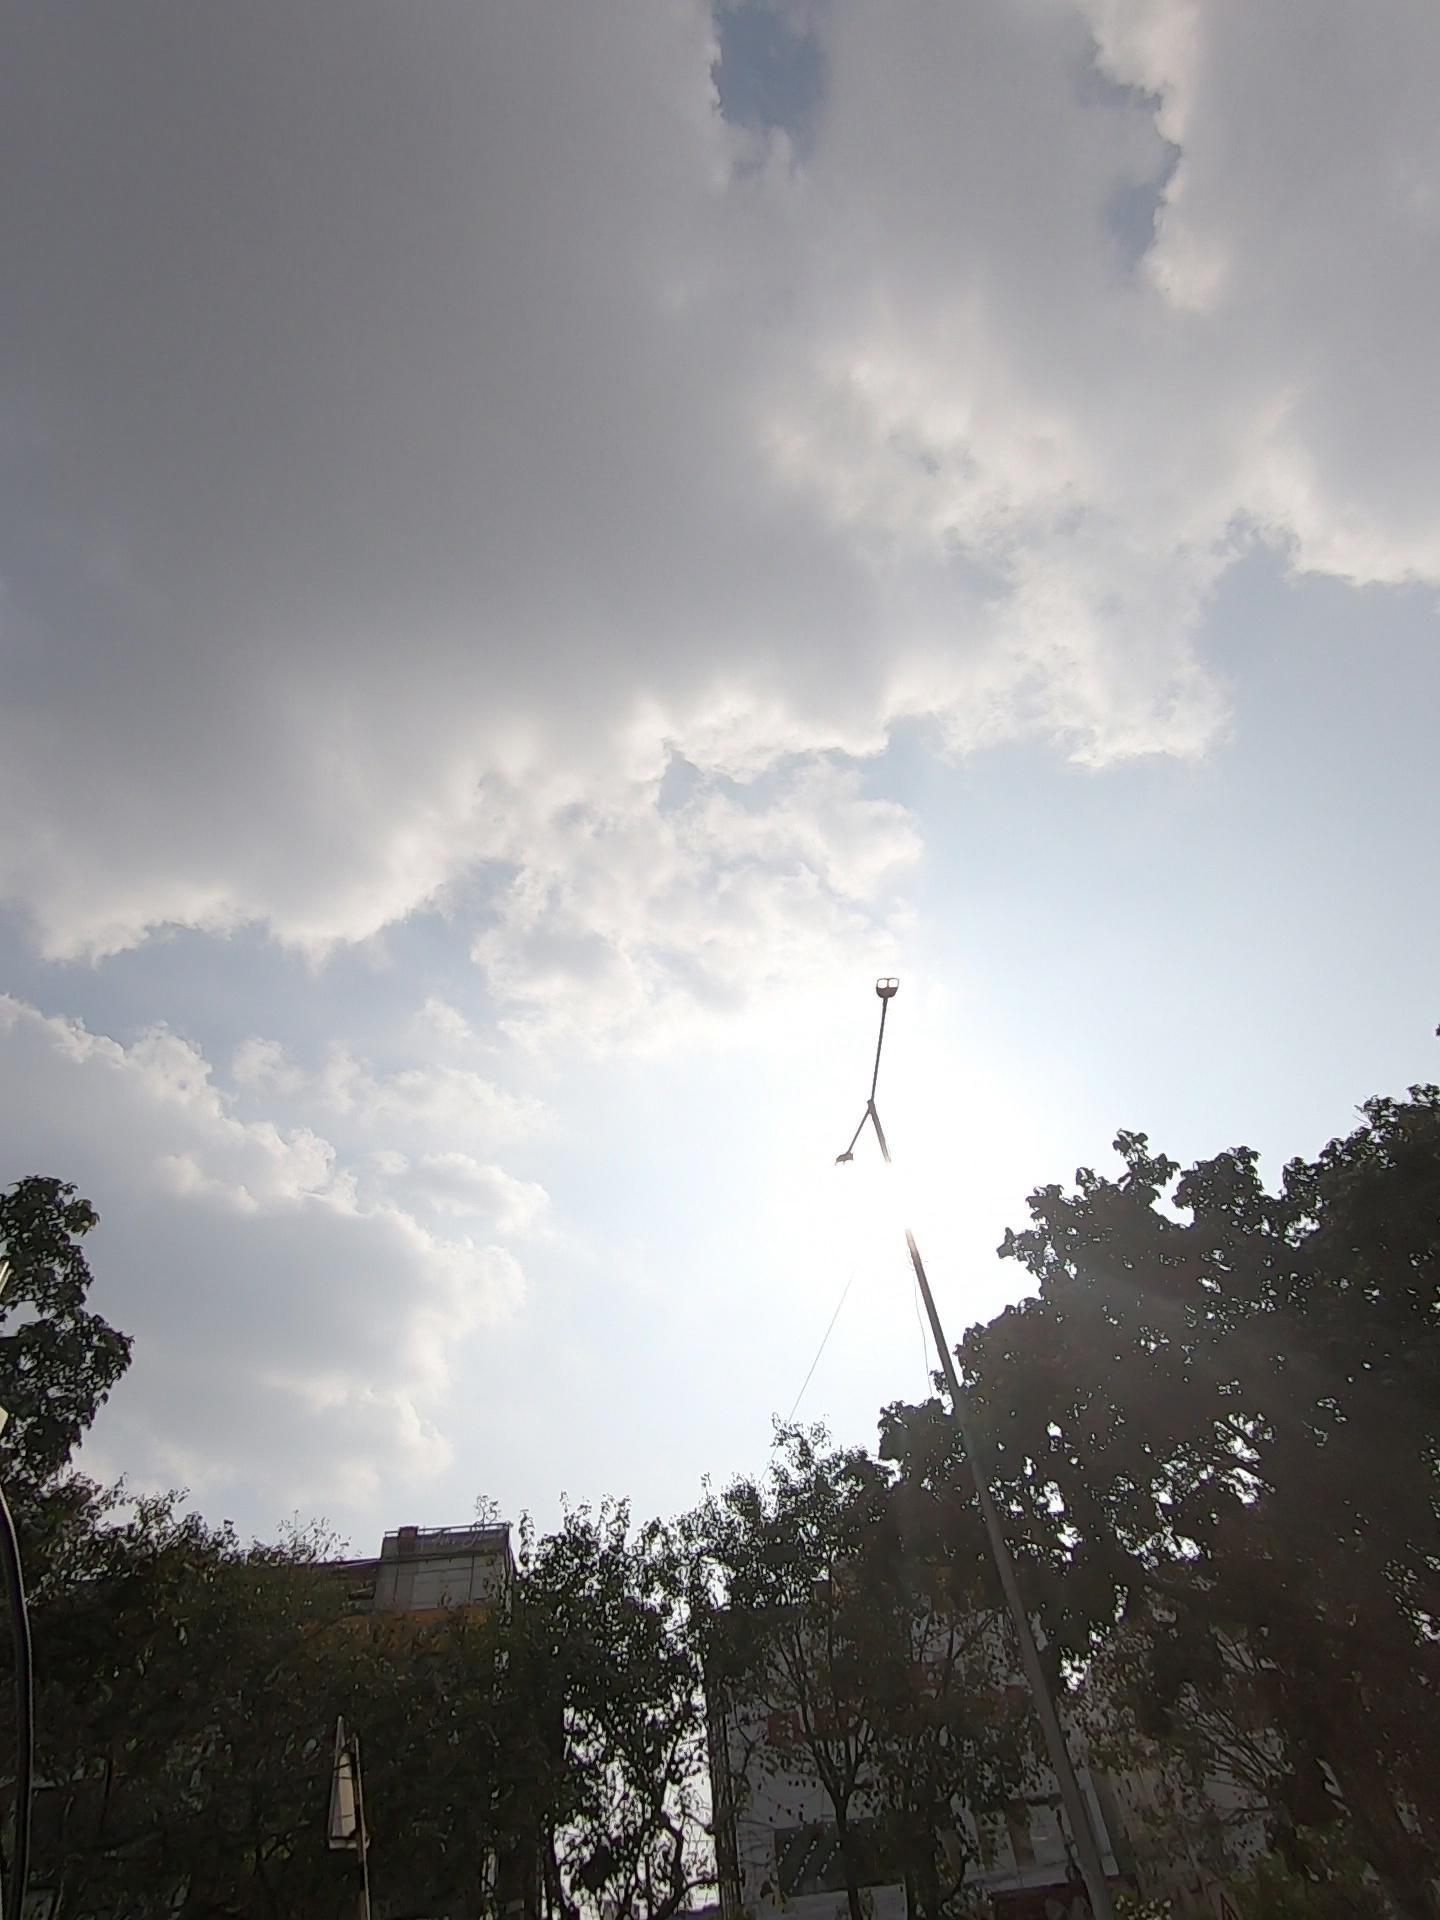off: (824, 940, 976, 1240)
